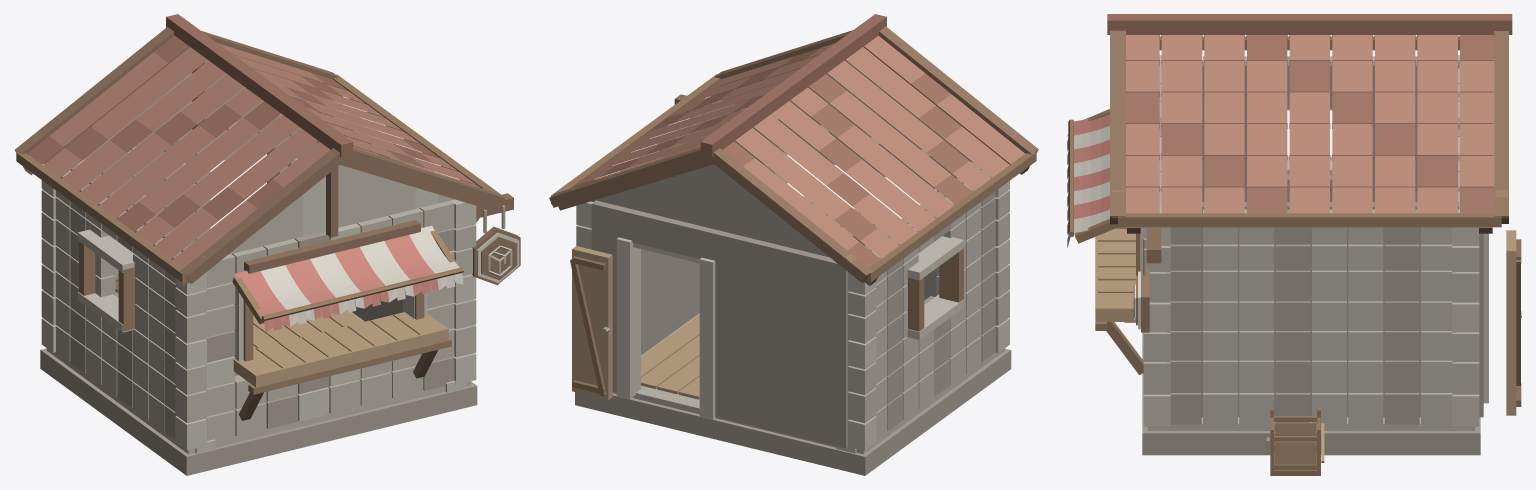
The model's file is port-trade-n3-candidate-v1.glb.
3 views of the same model, side by side, from view 1: azimuth 30°, elevation 25°; view 2: azimuth 150°, elevation 25°; view 3: azimuth 270°, elevation 25° (orthographic). The views are drawn at different scales.
Parts seen in each view (by area): view 1: roof, masonry, foundation, awning, counter, trim, sign; view 2: masonry, roof, foundation, door, trim; view 3: roof, masonry, foundation, awning, counter, crates, door, sign.
Boxes of the visible parts, x1,y1,x2,y2 form: roof: [14, 14, 504, 286]; masonry: [41, 60, 476, 450]; foundation: [40, 306, 477, 475]; awning: [232, 225, 463, 332]; counter: [233, 312, 451, 420]; trim: [79, 62, 424, 361]; sign: [472, 193, 520, 285]; masonry: [576, 60, 1009, 450]; roof: [549, 14, 1038, 285]; foundation: [575, 313, 1011, 475]; door: [570, 246, 612, 399]; trim: [786, 154, 963, 331]; roof: [1107, 14, 1512, 233]; masonry: [1124, 55, 1488, 426]; foundation: [1142, 332, 1480, 455]; awning: [1067, 109, 1117, 247]; counter: [1095, 227, 1143, 374]; crates: [1266, 408, 1324, 475]; door: [1506, 230, 1521, 415]; sign: [1133, 228, 1161, 332].
Bounding box in the file's own units: 4.4 × 3.71 × 4.3.
